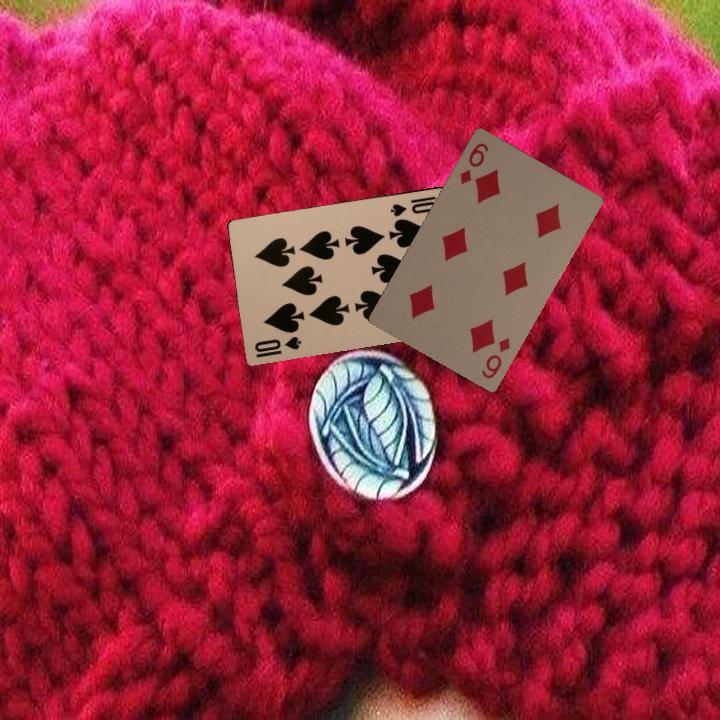10s: (250, 332, 304, 360), (387, 192, 440, 219)
6d: (477, 333, 513, 381), (456, 139, 491, 187)
